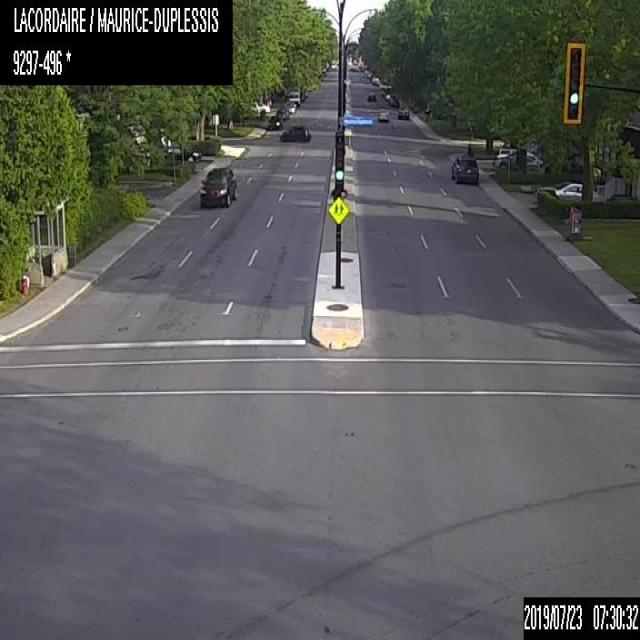pedestrian: (466, 140, 473, 156)
vehicle: (198, 164, 237, 208), (537, 181, 602, 202), (492, 146, 548, 170), (450, 154, 480, 182), (162, 146, 204, 161), (280, 125, 310, 140), (495, 146, 516, 158), (268, 115, 282, 128), (376, 107, 389, 121), (288, 91, 300, 106), (388, 94, 399, 108), (284, 101, 296, 113), (256, 102, 269, 113), (397, 105, 408, 118), (276, 107, 289, 117), (250, 100, 258, 115), (366, 92, 376, 103), (371, 73, 378, 84)
